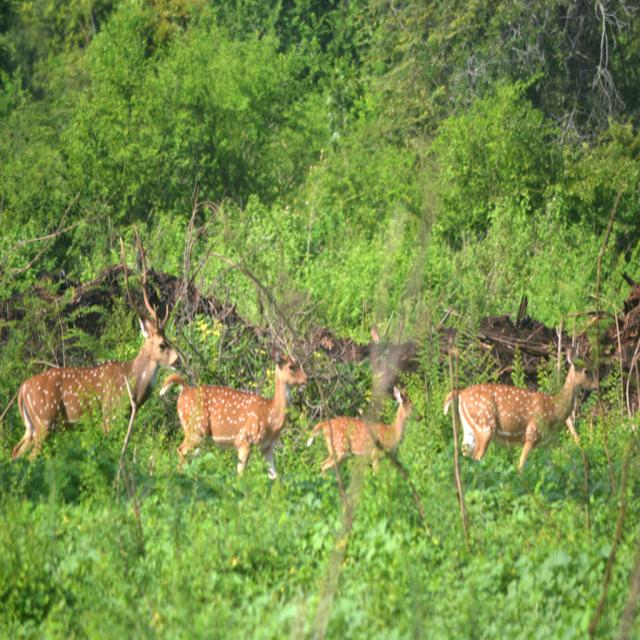Deer: (10, 220, 179, 465), (444, 346, 602, 469), (160, 348, 308, 477), (304, 382, 424, 477)
